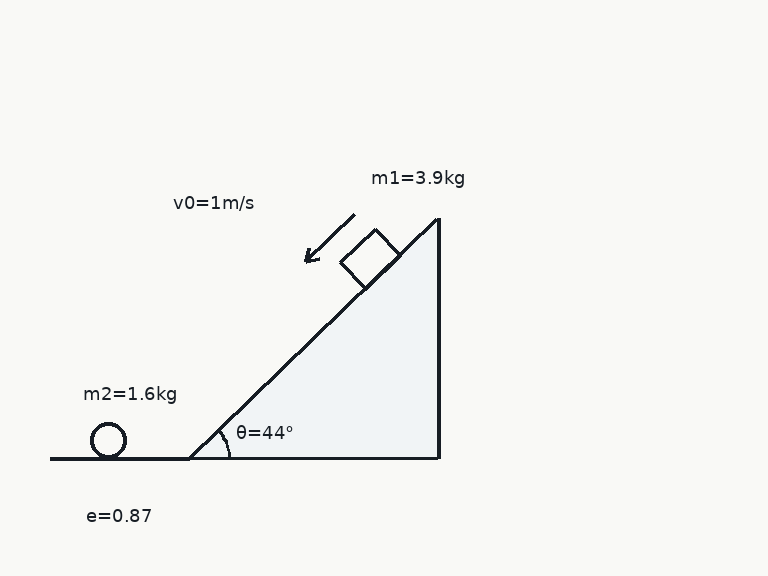ball: (88, 420, 128, 460)
block: (338, 227, 402, 290)
ramp: (187, 216, 439, 460)
